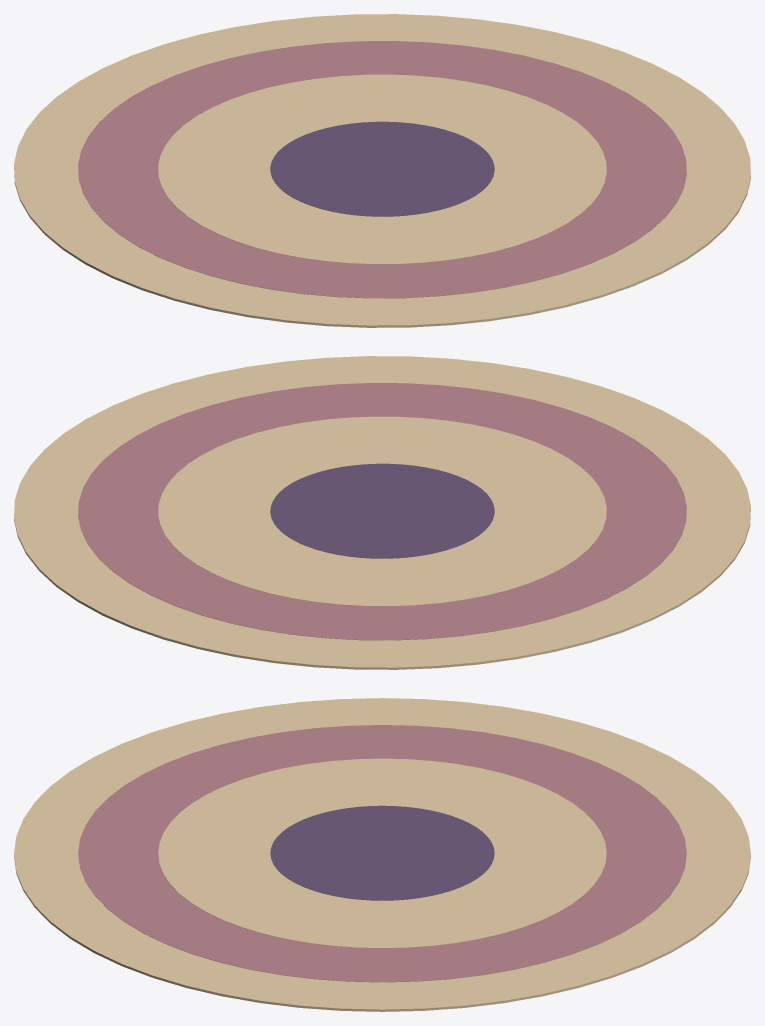
Rendered from rug.fbx.
3 renders of one model, top to bottom at view 1: azimuth 30°, elevation 25°; view 2: azimuth 150°, elevation 25°; view 3: azimuth 270°, elevation 25°, orthographic.
Parts seen in each view (by area): view 1: Rug; view 2: Rug; view 3: Rug.
Boxes of the visible parts, box(x1,y1,x2,y2) form: Rug: box(14, 14, 750, 327); Rug: box(14, 356, 750, 669); Rug: box(14, 698, 750, 1011).
Size of the model in its own units: 2.3 by 0.0104 by 2.3.
